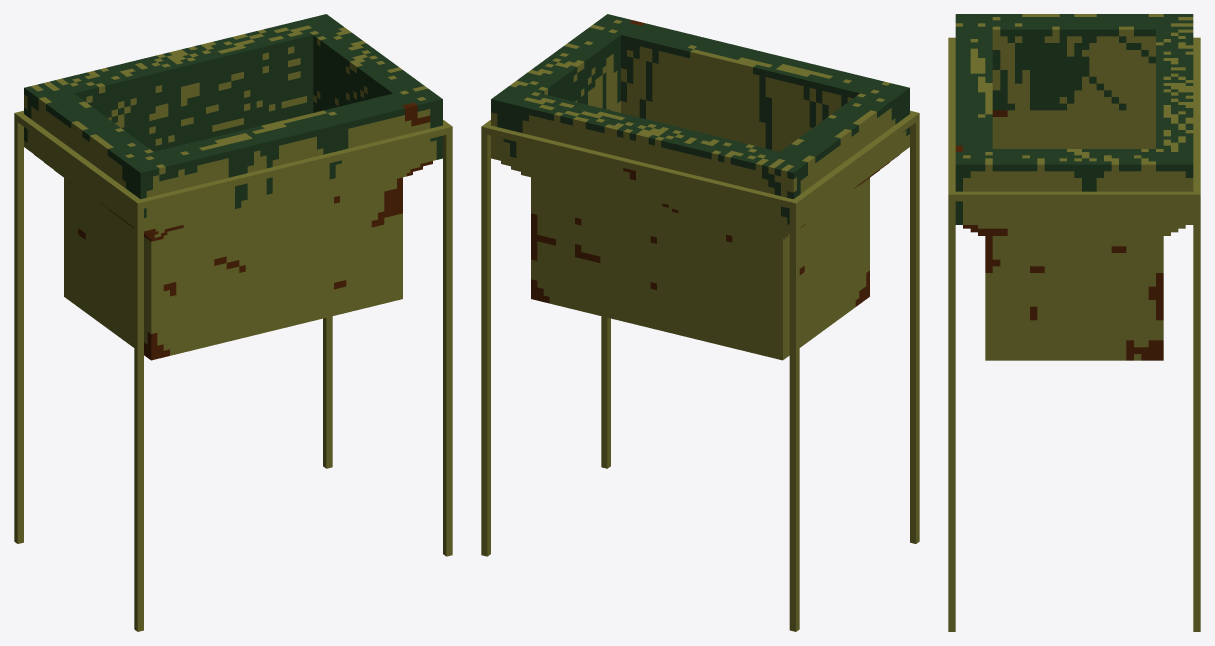
File: kon.fbx
The picture shows the model from 3 angles, left to right: view 1: azimuth 30°, elevation 25°; view 2: azimuth 150°, elevation 25°; view 3: azimuth 270°, elevation 25°; orthographic projection. The views are drawn at different scales.
Visible parts, largest first — view 1: kon.003, kon.004; view 2: kon.003, kon.004; view 3: kon.003, kon.004.
Part boxes in pixels (box(x1,y1,x2,y2)): kon.003: box(14, 14, 452, 360); kon.004: box(14, 114, 452, 631); kon.003: box(481, 14, 919, 360); kon.004: box(481, 114, 919, 631); kon.003: box(948, 14, 1200, 360); kon.004: box(948, 195, 1200, 631).
Bounding box in the file's own units: 500 × 690 × 340.
